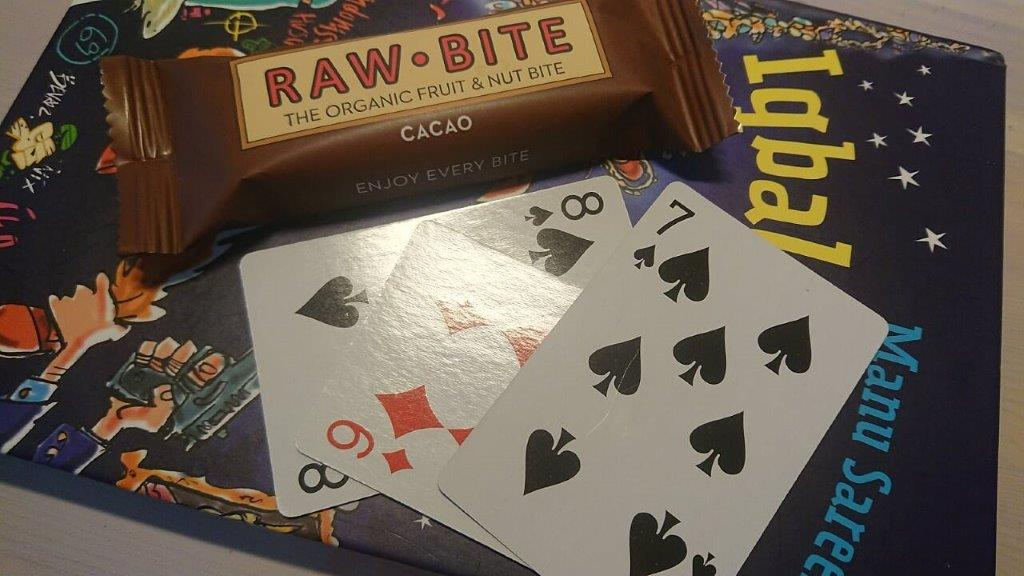7S: (629, 194, 698, 274)
